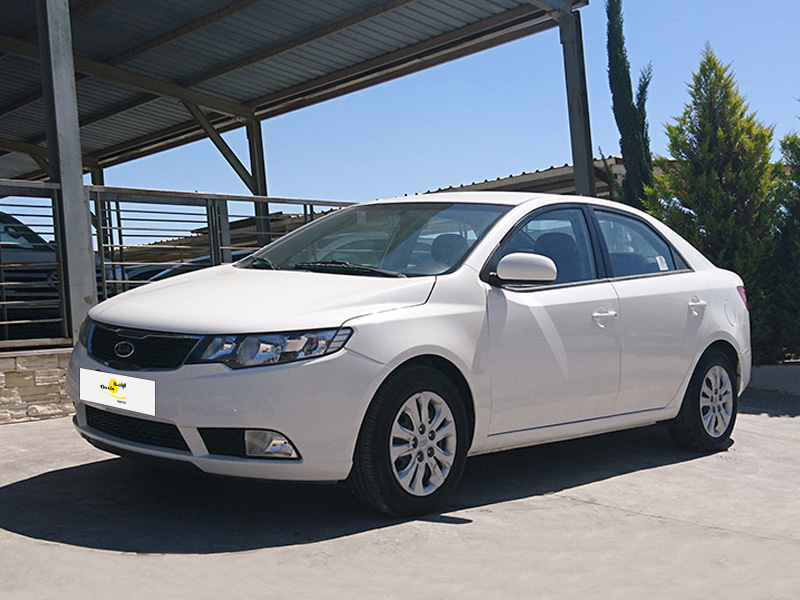other: (63, 189, 749, 508)
